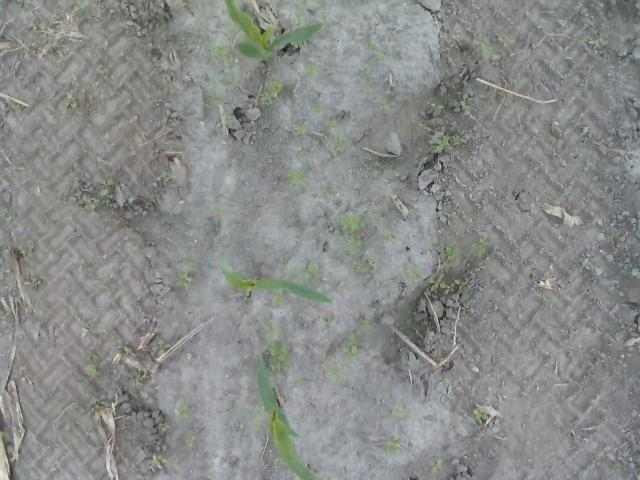Maize: (252, 351, 320, 480), (213, 247, 335, 305), (220, 0, 326, 60)
Weeds: (262, 340, 292, 382), (342, 332, 367, 362), (64, 86, 91, 110), (210, 44, 236, 68), (260, 79, 283, 104), (427, 273, 455, 293), (84, 351, 104, 378), (338, 213, 366, 232), (471, 36, 494, 58), (382, 436, 407, 456), (427, 134, 453, 152), (341, 234, 364, 254), (87, 394, 107, 417), (298, 262, 320, 282), (326, 360, 346, 381), (490, 32, 516, 48), (94, 54, 110, 80), (204, 88, 227, 106), (27, 10, 47, 30), (330, 134, 352, 152), (262, 320, 283, 338), (151, 454, 177, 468), (358, 70, 373, 94), (286, 169, 306, 187), (151, 338, 171, 356), (402, 267, 423, 284), (472, 238, 489, 258), (222, 72, 240, 90), (391, 404, 411, 420), (130, 364, 144, 386), (351, 258, 369, 275), (300, 64, 318, 80), (437, 246, 461, 258), (82, 196, 100, 212), (271, 288, 286, 307), (478, 90, 506, 100), (372, 50, 392, 64), (173, 404, 190, 420), (454, 279, 469, 297), (100, 178, 114, 197), (116, 346, 138, 358), (152, 26, 174, 38), (424, 97, 444, 110), (430, 458, 446, 474), (174, 270, 190, 286), (56, 424, 72, 440), (473, 409, 490, 424), (374, 97, 392, 111), (180, 254, 198, 268), (324, 118, 342, 131), (441, 208, 458, 221), (23, 276, 41, 288), (252, 405, 266, 420), (294, 123, 310, 136), (277, 262, 294, 274), (74, 0, 89, 13), (220, 110, 232, 126), (382, 227, 394, 243), (452, 134, 469, 145), (461, 93, 474, 107), (598, 232, 613, 244), (314, 471, 334, 480), (10, 365, 28, 375), (385, 86, 404, 95), (376, 411, 389, 424), (294, 375, 306, 389), (274, 456, 288, 468), (296, 3, 304, 24), (160, 171, 178, 180), (184, 434, 197, 446), (310, 103, 324, 114), (366, 255, 380, 266), (171, 0, 188, 9), (317, 188, 332, 198), (490, 54, 502, 66), (383, 32, 395, 44), (581, 258, 593, 270), (595, 36, 608, 47), (203, 468, 216, 479), (418, 122, 432, 132), (428, 232, 438, 246), (6, 102, 21, 111), (280, 134, 292, 145), (158, 422, 171, 432), (102, 283, 112, 296), (0, 310, 8, 326), (298, 150, 309, 161), (378, 391, 389, 402), (253, 422, 264, 433), (208, 74, 220, 84), (546, 133, 558, 143), (18, 0, 32, 8), (158, 139, 174, 146), (360, 319, 370, 330), (212, 203, 222, 214), (366, 38, 375, 50), (544, 163, 556, 172), (322, 314, 332, 324), (0, 207, 9, 218), (0, 430, 11, 439), (373, 212, 383, 221), (441, 380, 450, 390), (85, 323, 94, 332), (268, 376, 276, 386), (300, 0, 316, 5), (614, 462, 622, 472), (225, 398, 235, 406), (470, 132, 481, 139), (109, 89, 118, 97), (290, 40, 299, 48), (129, 115, 138, 123), (364, 172, 374, 179), (9, 166, 26, 170), (4, 246, 13, 253), (310, 443, 318, 450), (172, 77, 178, 86), (96, 14, 105, 20), (548, 358, 555, 364), (0, 70, 3, 77)
